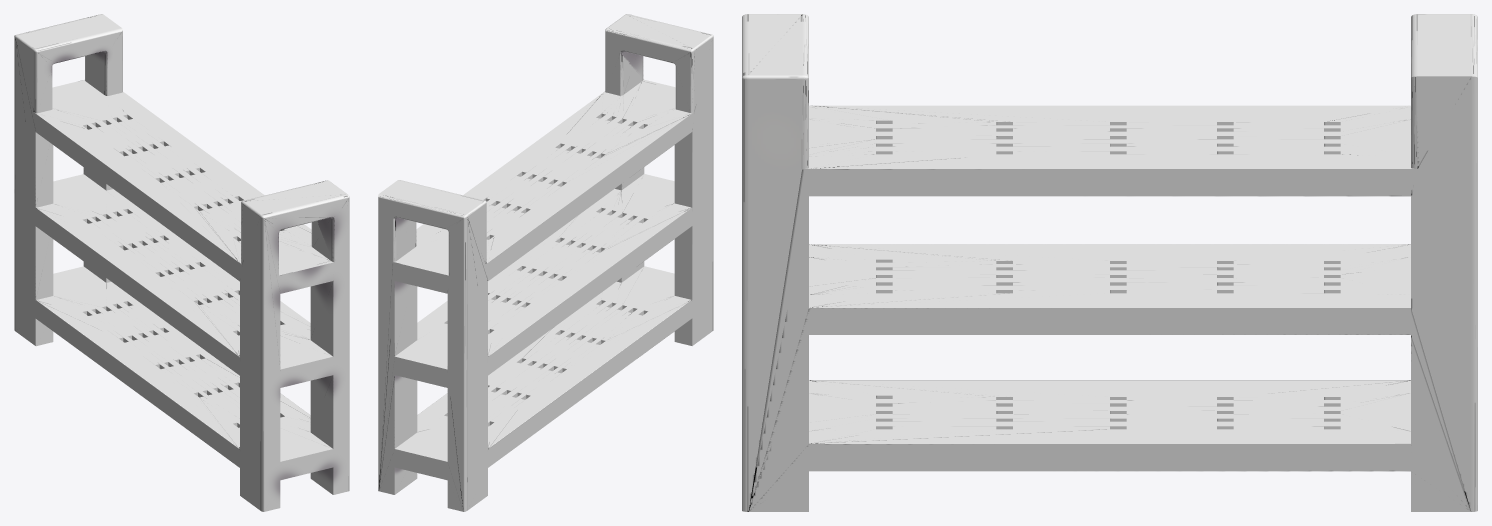
Rendered from estanteria.dae.
3 views of the same model, side by side, from view 1: azimuth 30°, elevation 25°; view 2: azimuth 150°, elevation 25°; view 3: azimuth 270°, elevation 25° (orthographic). The views are drawn at different scales.
Visible parts, largest first — view 1: Estanter; view 2: Estanter; view 3: Estanter.
Part boxes in pixels (x1,y1,x2,y2): Estanter: (14,14,349,511); Estanter: (378,14,713,511); Estanter: (742,14,1477,511).
Bounding box in the file's own units: 0.6371 × 3.12 × 2.04.
Materials: 1 (1 with a texture image).
